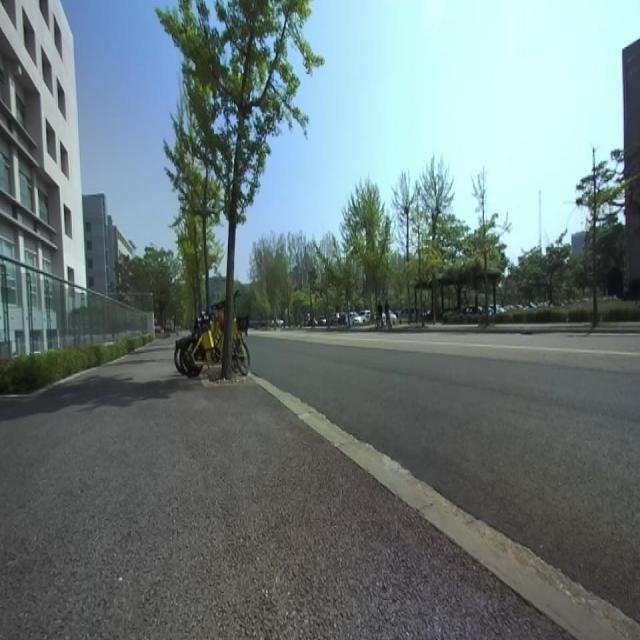sidewalk: (0, 335, 566, 639), (250, 374, 632, 640)
